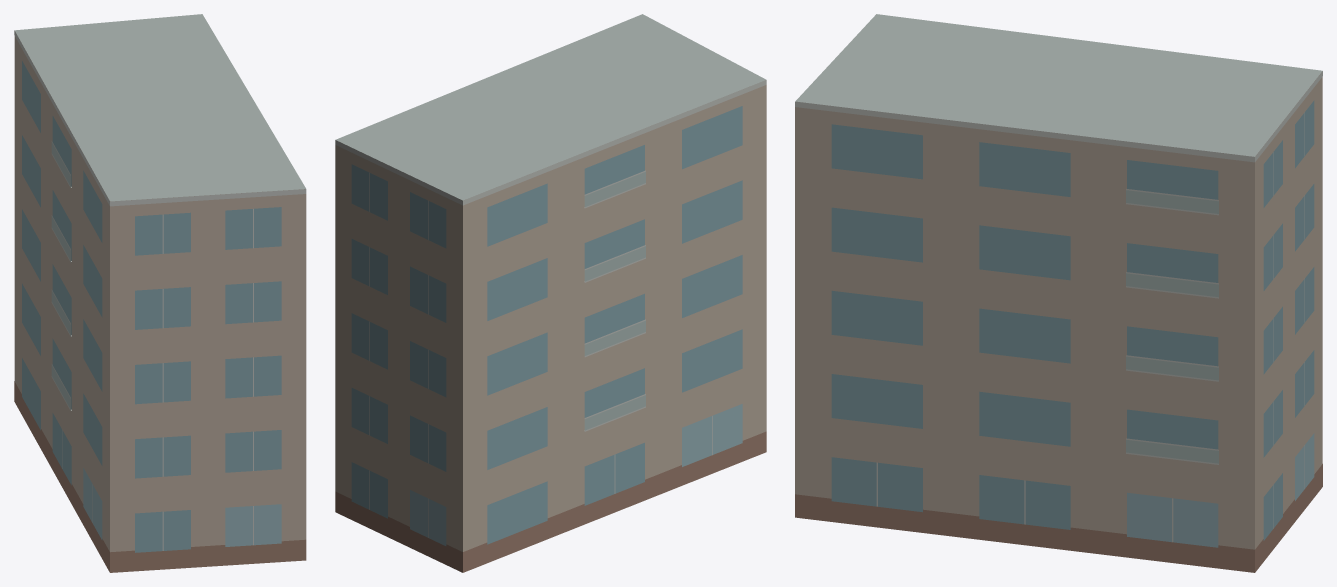
File: survey-upis-33042145.glb
3 views of the same model, side by side, from view 1: azimuth 30°, elevation 25°; view 2: azimuth 150°, elevation 25°; view 3: azimuth 270°, elevation 25° (orthographic). The views are drawn at different scales.
Visible parts, largest first — view 1: survey-upis-33042145.tmp; view 2: survey-upis-33042145.tmp; view 3: survey-upis-33042145.tmp.
Boxes of the visible parts, bbox=[...] form: survey-upis-33042145.tmp: bbox=[14, 14, 306, 572]; survey-upis-33042145.tmp: bbox=[335, 14, 766, 572]; survey-upis-33042145.tmp: bbox=[795, 14, 1322, 572].
Bounding box in the file's own units: 13.49 × 18.3 × 21.05.
